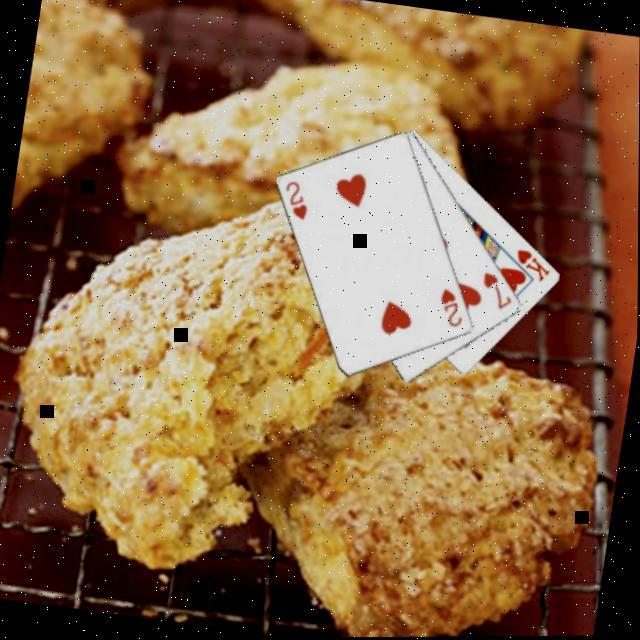2H: (277, 176, 314, 224), (433, 284, 469, 330)
7H: (476, 267, 519, 314)
KH: (509, 245, 556, 286)
